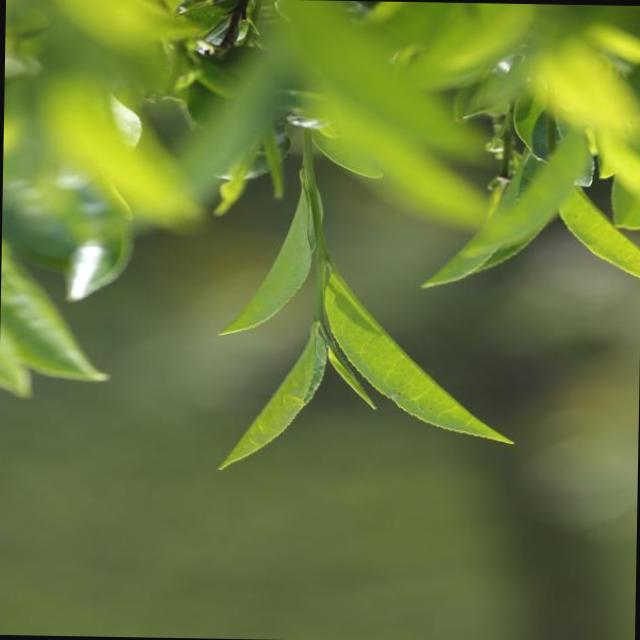Stem: (315, 307, 323, 320)
